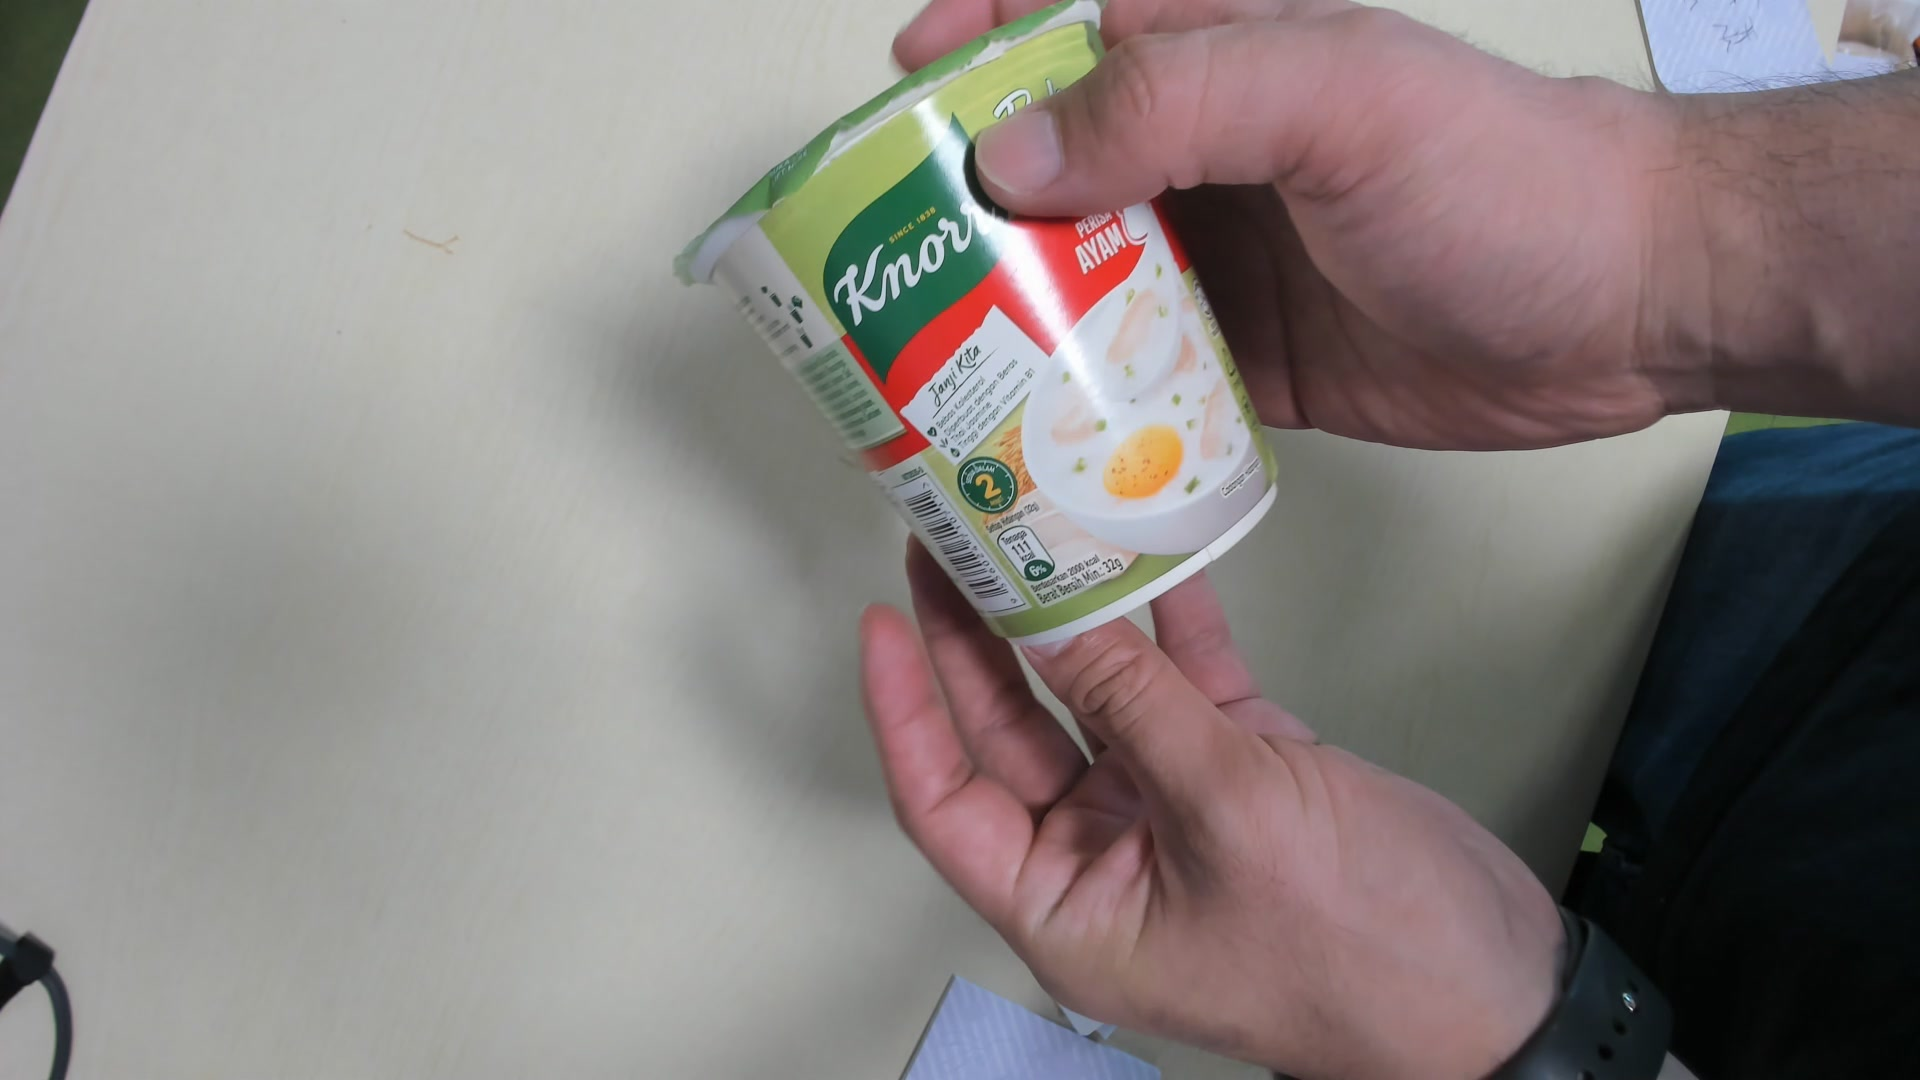InstantMeals_100-199g_Halal_NonHealthy: (682, 3, 1286, 641)
